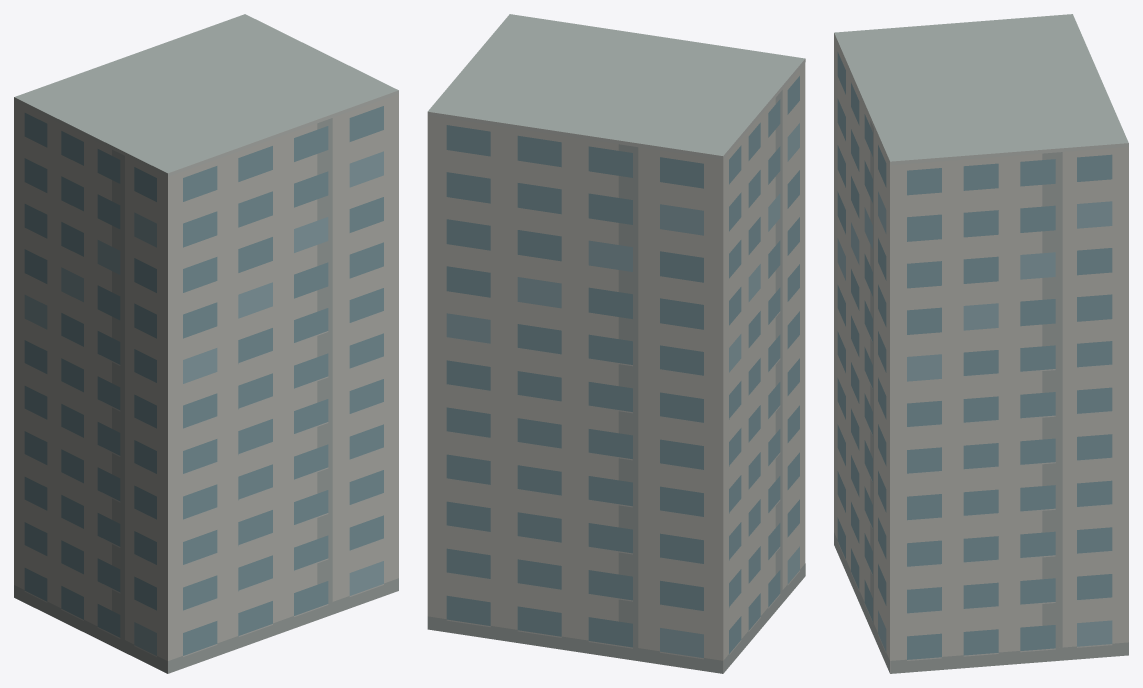
Rendered from residential-73e216f9-974a-45e6-a06b-28525322bda2.glb.
3 renders of one model, left to right at view 1: azimuth 30°, elevation 25°; view 2: azimuth 150°, elevation 25°; view 3: azimuth 270°, elevation 25°, orthographic. The views are drawn at different scales.
Visible parts, largest first — view 1: residential-73e216f9-974a-45e6-a06b-28525322bda2.tmp; view 2: residential-73e216f9-974a-45e6-a06b-28525322bda2.tmp; view 3: residential-73e216f9-974a-45e6-a06b-28525322bda2.tmp.
Part boxes in pixels (bbox=[...]): residential-73e216f9-974a-45e6-a06b-28525322bda2.tmp: bbox=[14, 14, 398, 673]; residential-73e216f9-974a-45e6-a06b-28525322bda2.tmp: bbox=[427, 14, 805, 673]; residential-73e216f9-974a-45e6-a06b-28525322bda2.tmp: bbox=[834, 14, 1128, 673].
Bounding box in the file's own units: 20.4 × 33 × 17.22.
